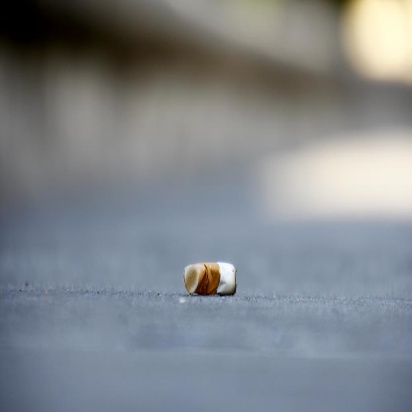cigarette: (173, 248, 246, 308)
